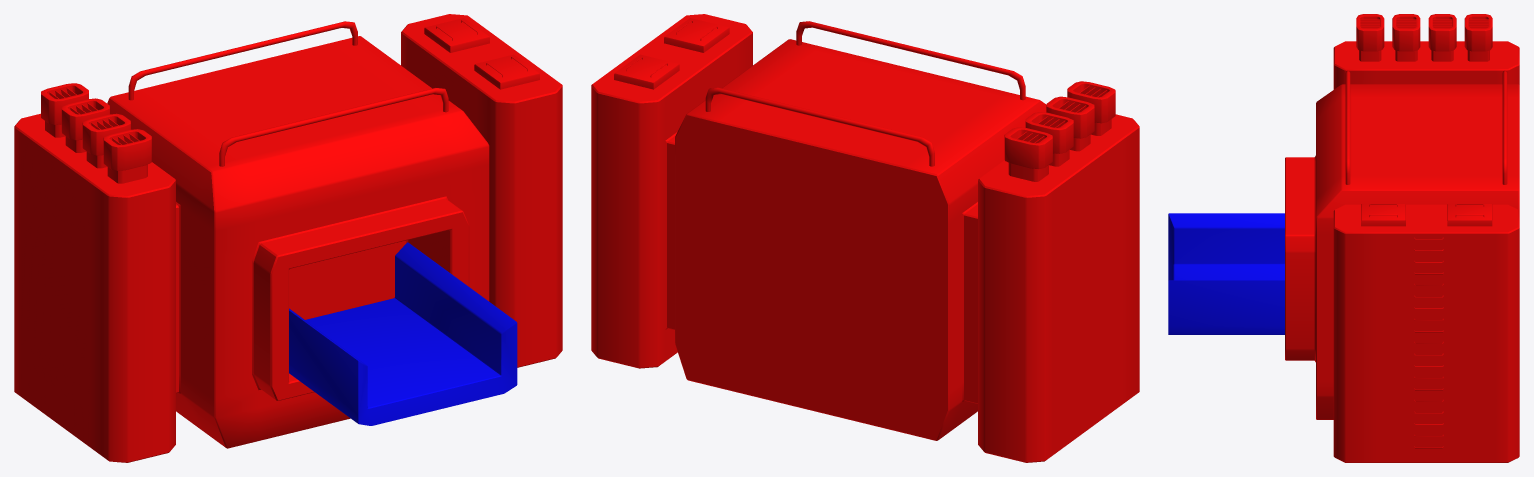
Rendered from main_LavaGenerator001.fbx.
3 renders of one model, left to right at view 1: azimuth 30°, elevation 25°; view 2: azimuth 150°, elevation 25°; view 3: azimuth 270°, elevation 25°, orthographic. The views are drawn at different scales.
Visible parts, largest first — view 1: main_LavaGenerator001_main, main_LavaGenerator001_export; view 2: main_LavaGenerator001_main; view 3: main_LavaGenerator001_main, main_LavaGenerator001_export.
Boxes of the visible parts, x1,y1,x2,y2 form: main_LavaGenerator001_main: [14, 14, 562, 462]; main_LavaGenerator001_export: [289, 242, 517, 425]; main_LavaGenerator001_main: [591, 14, 1139, 462]; main_LavaGenerator001_main: [1285, 14, 1519, 462]; main_LavaGenerator001_export: [1168, 213, 1284, 334].
Size of the model in its own units: 19.51 by 12.4 by 14.97.
